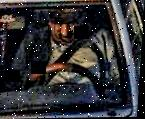seatbelt: (48, 20, 101, 72)
